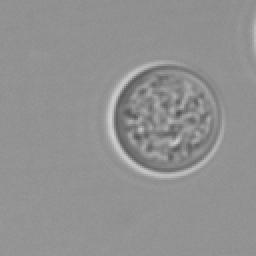picoshell: (104, 60, 224, 180)
